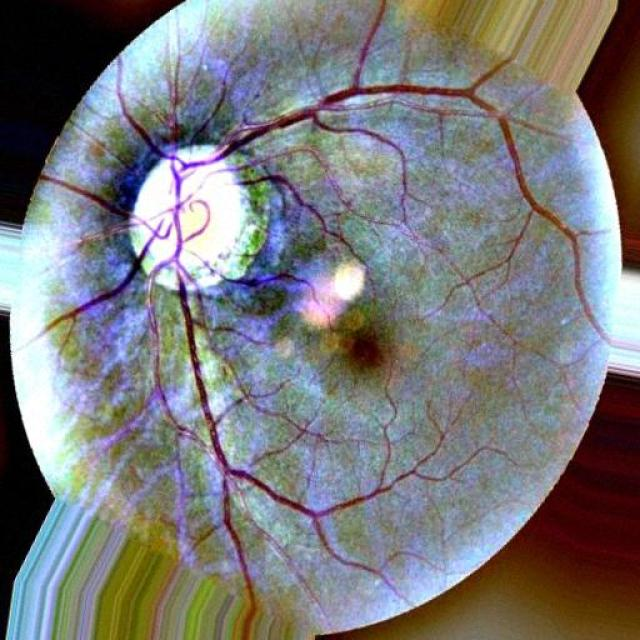Macula: (349, 334, 380, 366)
Nerves: (39, 0, 609, 639), (229, 270, 340, 326), (190, 250, 229, 280)
Optic Disk: (129, 144, 268, 291)
